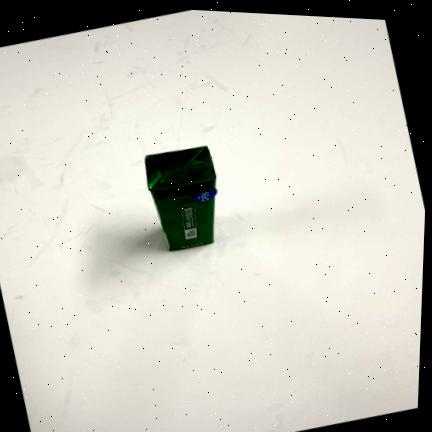gum_green: (145, 144, 218, 251)
